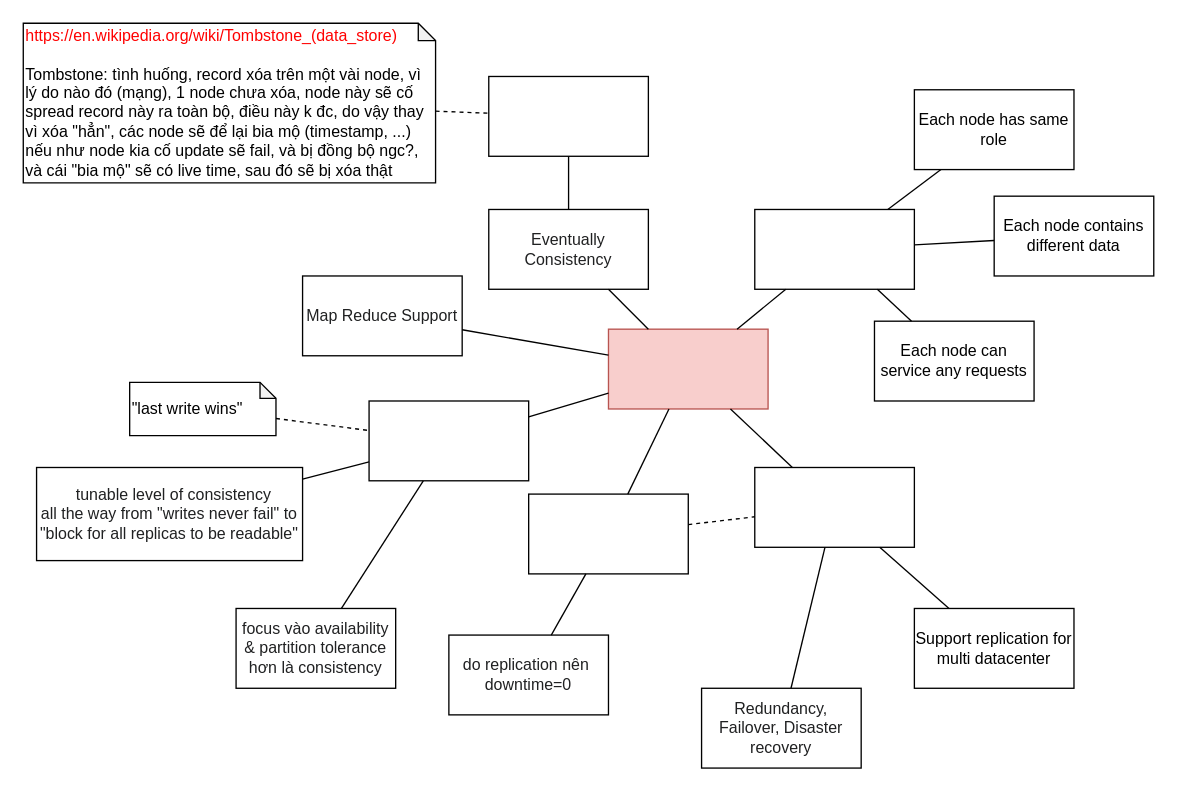
Image size: 1177x791. Some labels were removed from this diagram. Each missing label, with the box of its shape:
Cassandra: (607, 328, 768, 409)
Distributed: (753, 208, 914, 289)
Fault-tolerant: (527, 493, 688, 574)
Replication: (753, 466, 914, 547)
Tombstone: (487, 75, 648, 156)
Tunable consistency: (368, 400, 529, 481)
